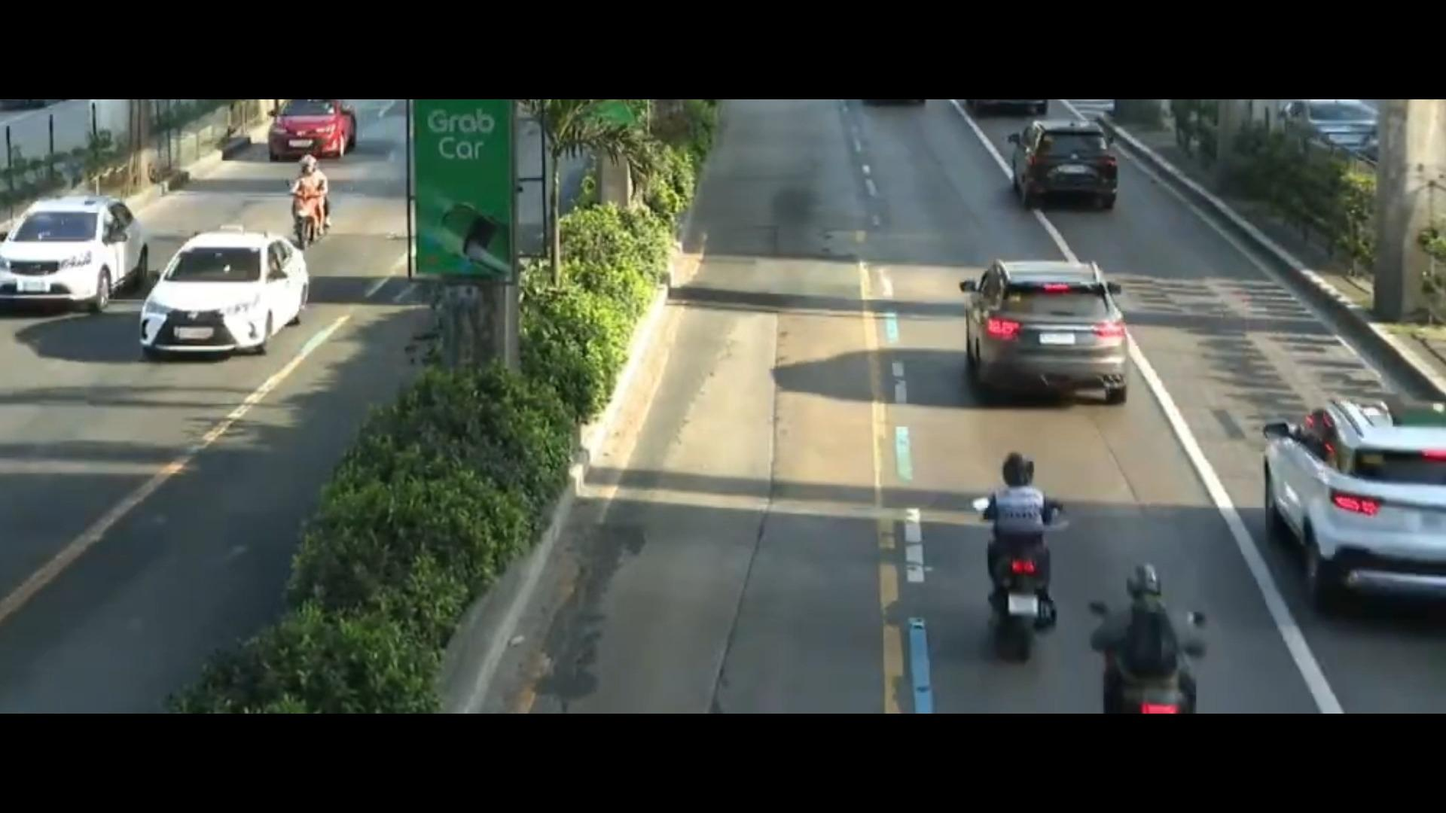Motorcycle: (942, 446, 1079, 646), (1087, 576, 1232, 709), (284, 147, 351, 247)
SUV: (1268, 367, 1446, 619), (947, 251, 1135, 428), (0, 164, 147, 309), (991, 119, 1132, 232)
Sedan: (132, 217, 309, 387), (253, 94, 356, 166)
